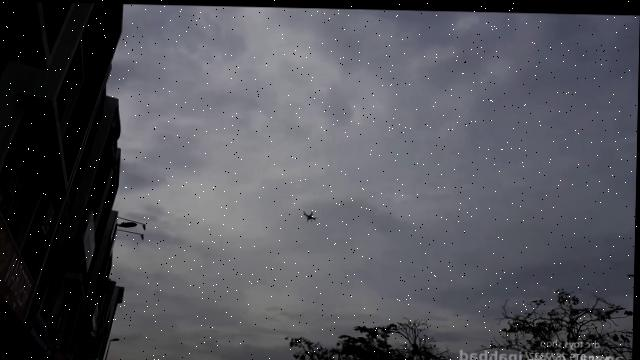drone: (300, 206, 319, 221)
